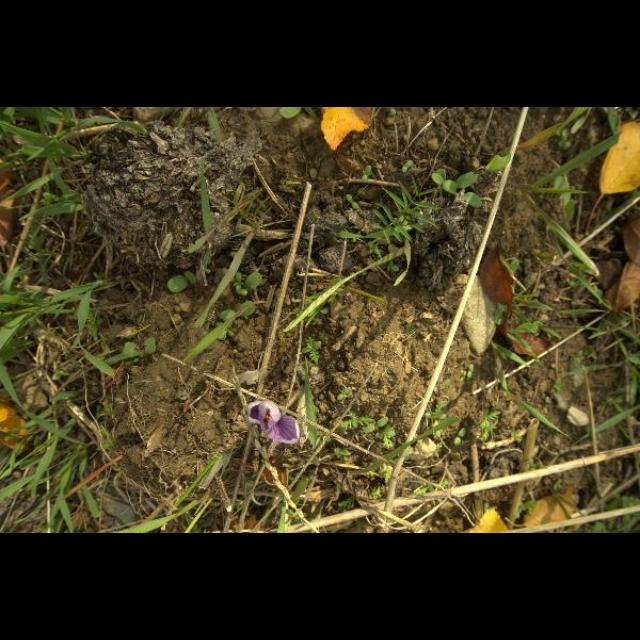flower: (244, 400, 302, 446)
